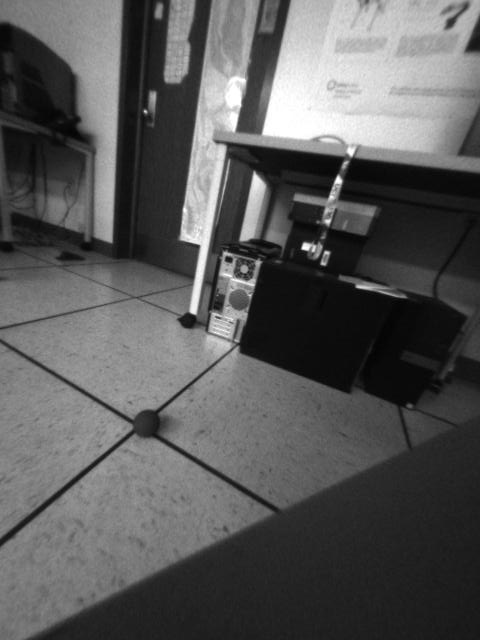dogtoy: (126, 403, 168, 445)
